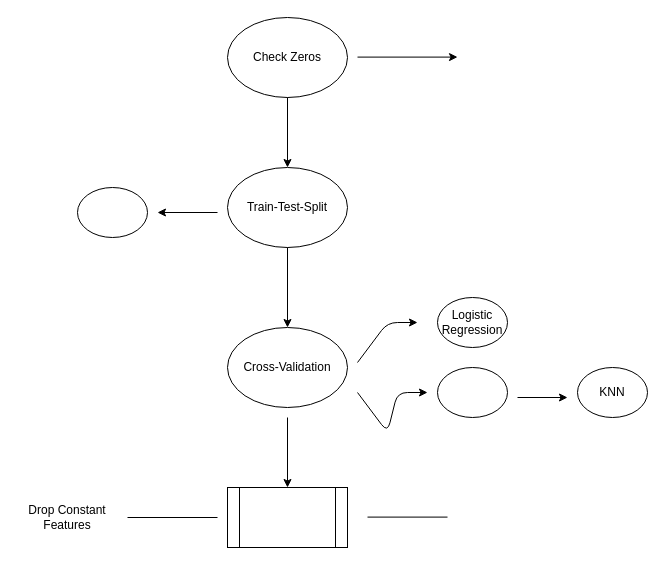
This 665x565 diagram has some shape labels left out. Each missing label, with the box of its shape:
Data Transformation: (226, 486, 348, 548)
Normalizer: (436, 366, 508, 418)
SVM: (76, 186, 148, 238)
